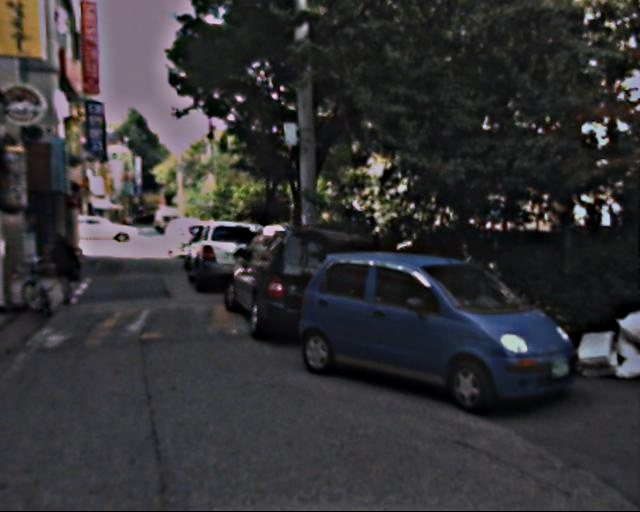person: (48, 226, 85, 304)
